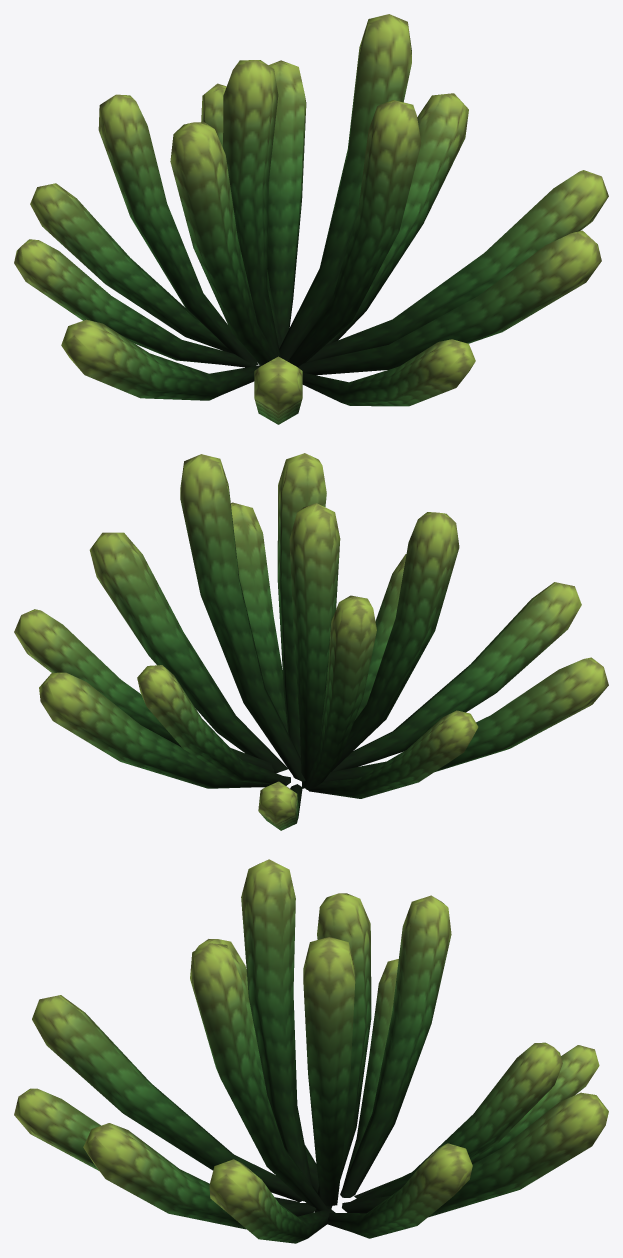
The model's file is Coral_08a.FBX.
3 views of the same model, one above another, from view 1: azimuth 30°, elevation 25°; view 2: azimuth 150°, elevation 25°; view 3: azimuth 270°, elevation 25° (orthographic). The views are drawn at different scales.
Visible parts, largest first — view 1: Coral_08a; view 2: Coral_08a; view 3: Coral_08a.
Part boxes in pixels (bbox=[...]): Coral_08a: bbox=[14, 14, 608, 424]; Coral_08a: bbox=[14, 453, 608, 830]; Coral_08a: bbox=[14, 859, 608, 1243].
Size of the model in its own units: 48.65 by 28.83 by 46.67.
